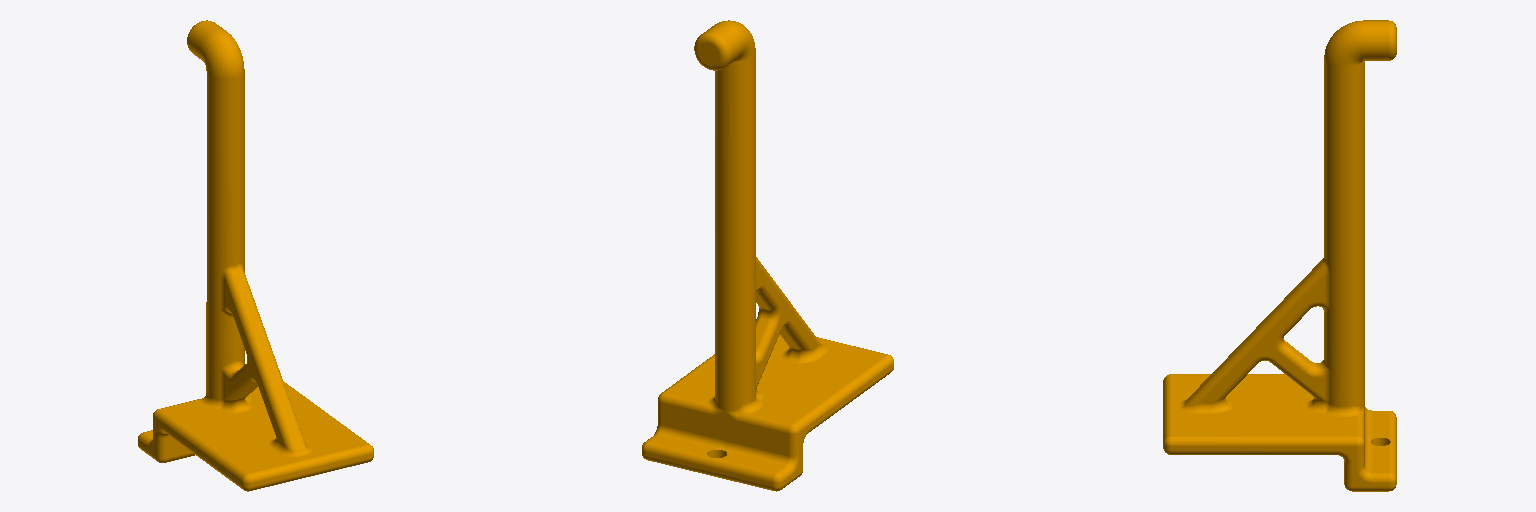
robot.urdf — hook:
<?xml version="1.0"?>
<robot name="hook">

  <link name="base_link">
    <visual>
      <origin xyz="0 0 0" rpy="0 0 0" />
      <geometry>
        <mesh filename="package://slatwall-hook/slatwall.stl" scale="0.002 0.002 0.002"/>
      </geometry>
    </visual>
    <collision>
      <origin xyz="0 0 0" rpy="0 0 0" />
      <geometry>
        <mesh filename="package://slatwall-hook/slatwall_vhacd.obj" scale="0.002 0.002 0.002" />
      </geometry>
    </collision>
    <inertial>
      <mass value="1.0"/>
      <inertia ixx="0.01" ixy="0.0" ixz="0.0" iyy="0.01" iyz="0.0" izz="0.01"/>
    </inertial>
  </link>

</robot>

--- Facts derived from the render (not from the file) ---
The picture shows the robot from 3 angles, left to right: view 1: azimuth 30°, elevation 25°; view 2: azimuth 150°, elevation 25°; view 3: azimuth 270°, elevation 25°; orthographic projection.
Robot: hook — 1 links, 0 joints (none); root link base_link; default pose: every joint at zero.
Links seen in each view (by area): view 1: base_link; view 2: base_link; view 3: base_link.
Boxes of the visible links, box(x1,y1,x2,y2) form: base_link: box(138, 20, 373, 491); base_link: box(642, 20, 893, 491); base_link: box(1163, 20, 1396, 491).
Bounding box of the posed robot: 0.08 × 0.116 × 0.24 m (x, y, z).
1 mesh visuals loaded from 1 distinct referenced files (1 binary STL).